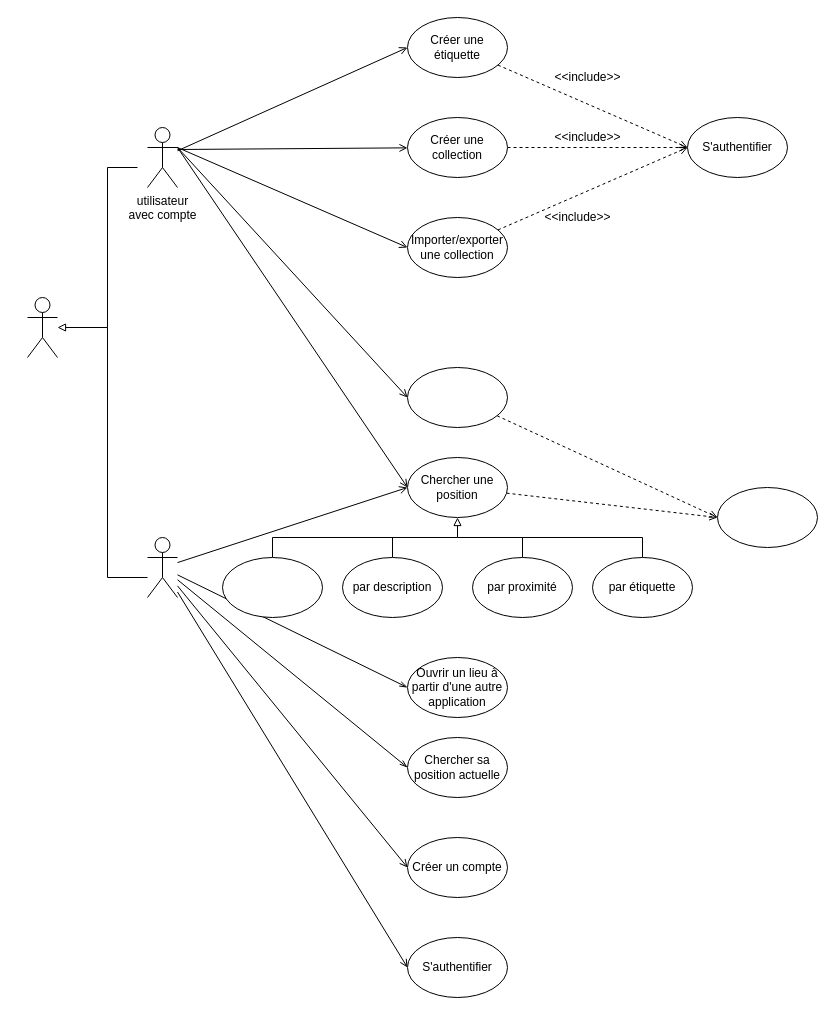
The diagram is 835 pixels wide and 1015 high, and some of its shapes have lost their labels. Here are the shapes that lost their labels. From the top down, the centre of each, then its label:
At point 42,327: "utilisateur".
At point 457,397: "Partager position".
At point 767,517: "Générer Token de lecture".
At point 162,567: "utilisateur tier".
At point 272,587: "par titre".
